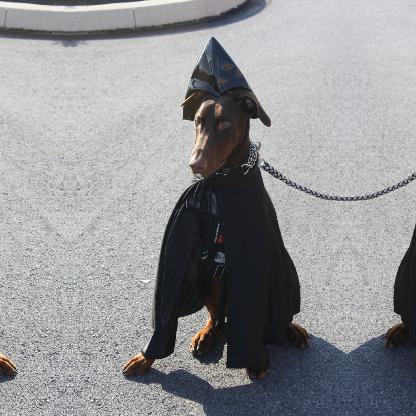Dog: (121, 37, 313, 381)
